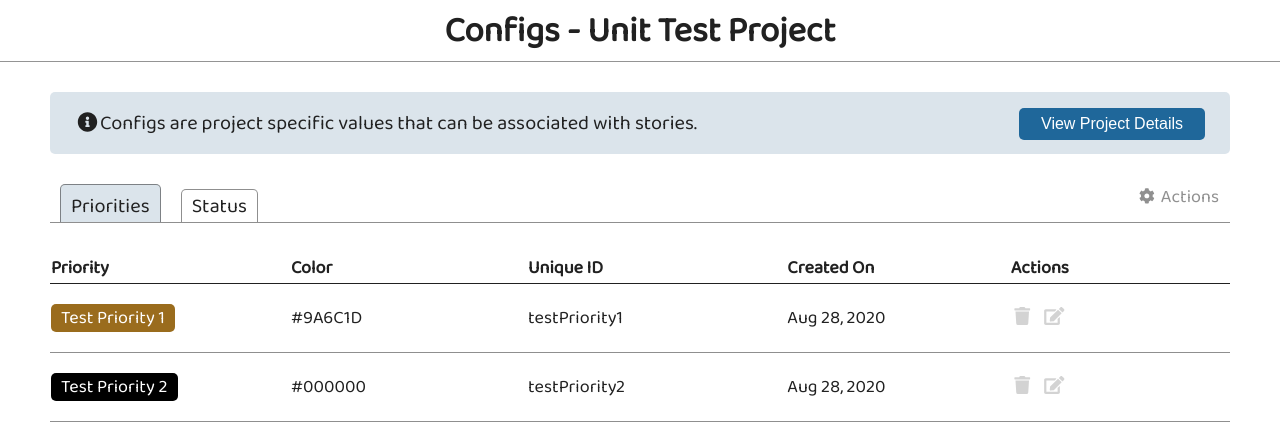
Scenario: <ProjectConfigs /> › should render an action menu item to Add Priority
Expected: the text "Add Priority" is not shown
Step 1. Click the element with test id "projectConfigsActionsMenu" → (1178, 197), box [1138,183,1219,211]
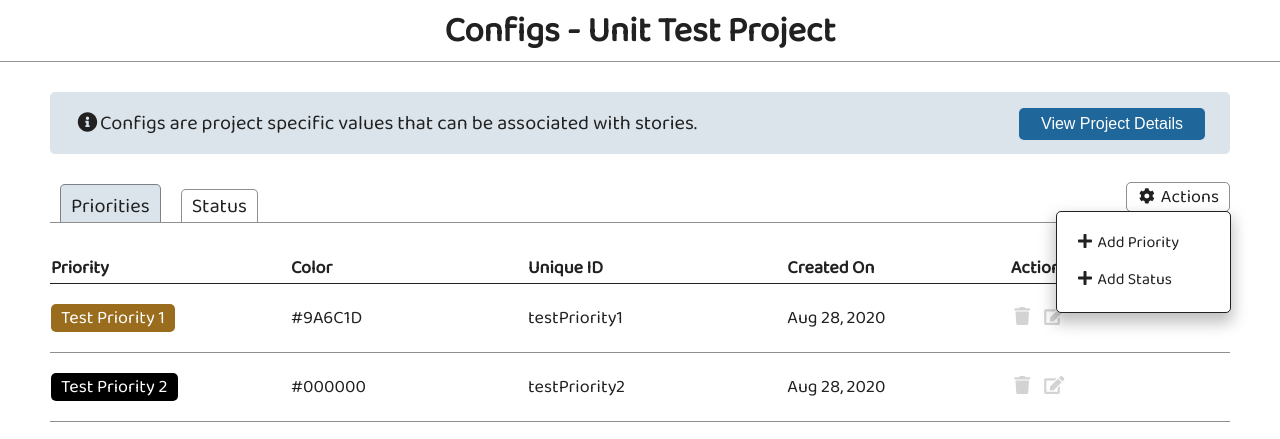
Expected: the list item "Add Priority" is shown, [1062,224,1226,261]
